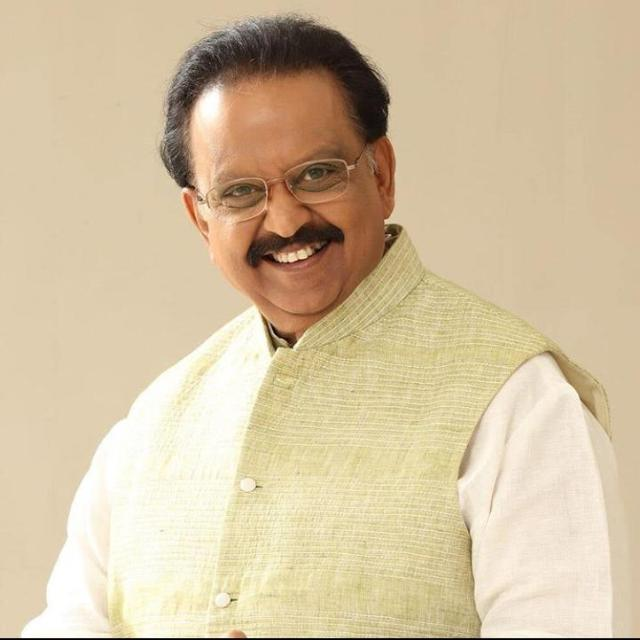person: (27, 6, 623, 640)
